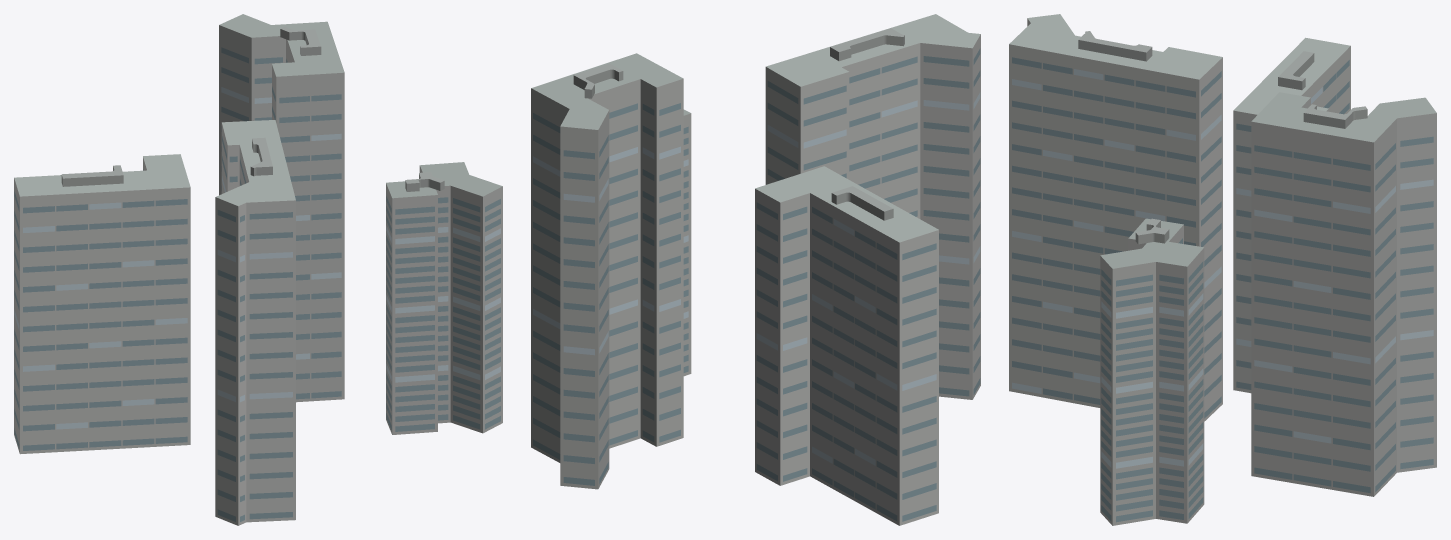
The model's file is apt-a10027221.glb.
3 renders of one model, left to right at view 1: azimuth 30°, elevation 25°; view 2: azimuth 150°, elevation 25°; view 3: azimuth 270°, elevation 25°, orthographic. The views are drawn at different scales.
Parts seen in each view (by area): view 1: apt-a10027221; view 2: apt-a10027221; view 3: apt-a10027221.
Part boxes in pixels (bbox=[...]): apt-a10027221: bbox=[14, 14, 502, 525]; apt-a10027221: bbox=[531, 14, 980, 525]; apt-a10027221: bbox=[1009, 14, 1436, 525].
Bounding box in the file's own units: 119 × 97 × 103.
